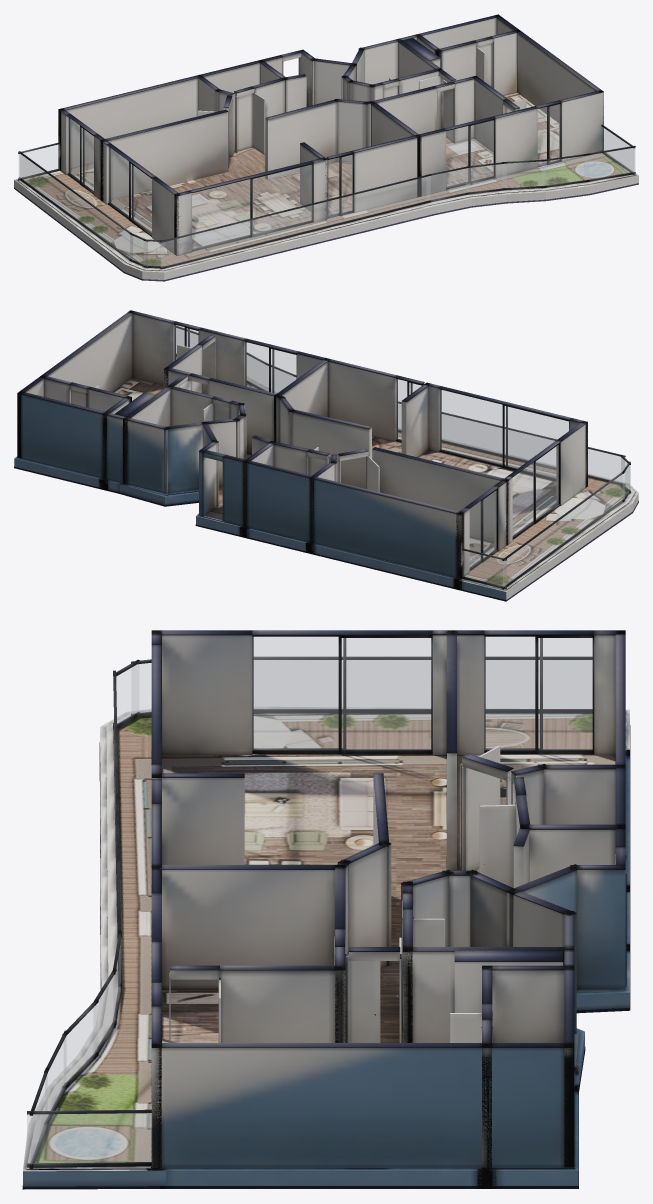
The picture shows the model from 3 angles, top to bottom: view 1: azimuth 30°, elevation 25°; view 2: azimuth 150°, elevation 25°; view 3: azimuth 270°, elevation 25°; orthographic projection. The views are drawn at different scales.
Visible parts, largest first — view 1: plan, railg7_m, glass0_m, railg10_m, glass4_m, glass2_m, glass3_m, railg2_m, glass1_m, railg3_m, railg6_m, glass5_m (+6 smaller); view 2: plan, glass0_m, railg7_m, railg10_m, glass2_m, glass4_m, glass3_m, railg0_m, glass1_m, railg4_m, glass5_m; view 3: plan, glass2_m, railg10_m, glass3_m, railg1_m, railg4_m, railg5_m, railg8_m, railg9_m, railg3_m.
Part boxes in pixels (<box>): plan: <box>14,14,638,281</box>; railg7_m: <box>161,176,430,266</box>; glass0_m: <box>192,165,311,249</box>; railg10_m: <box>20,154,132,259</box>; glass4_m: <box>446,120,493,187</box>; glass2_m: <box>109,147,151,233</box>; glass3_m: <box>68,118,93,191</box>; railg2_m: <box>584,148,635,179</box>; glass1_m: <box>328,155,352,215</box>; railg3_m: <box>542,155,588,185</box>; railg6_m: <box>426,168,469,200</box>; glass5_m: <box>538,104,559,164</box>; plan: <box>14,310,638,601</box>; glass0_m: <box>440,390,568,477</box>; railg7_m: <box>398,404,624,482</box>; railg10_m: <box>503,473,624,586</box>; glass2_m: <box>513,445,558,536</box>; glass4_m: <box>245,342,296,393</box>; glass3_m: <box>470,491,496,567</box>; railg0_m: <box>462,550,506,586</box>; glass1_m: <box>396,379,421,440</box>; railg4_m: <box>247,355,268,391</box>; glass5_m: <box>174,325,198,360</box>; plan: <box>22,630,630,1189</box>; glass2_m: <box>252,637,430,749</box>; railg10_m: <box>254,660,591,708</box>; glass3_m: <box>484,637,592,749</box>; railg1_m: <box>27,1113,151,1163</box>; railg4_m: <box>64,1004,97,1085</box>; railg5_m: <box>93,975,115,1054</box>; railg8_m: <box>116,664,138,723</box>; railg9_m: <box>132,663,151,713</box>; railg3_m: <box>45,1038,65,1118</box>.
Bounding box in the file's own units: 18.77 × 2.62 × 10.35.
2 materials, 1 textured.
